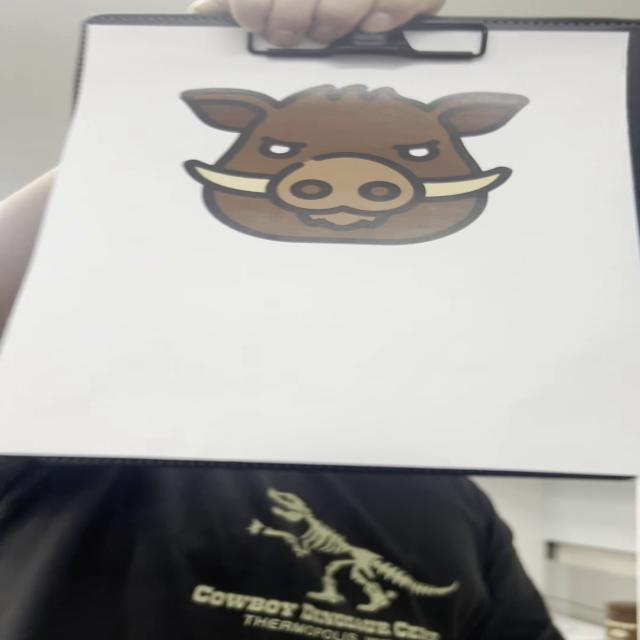animal: (176, 80, 533, 250)
